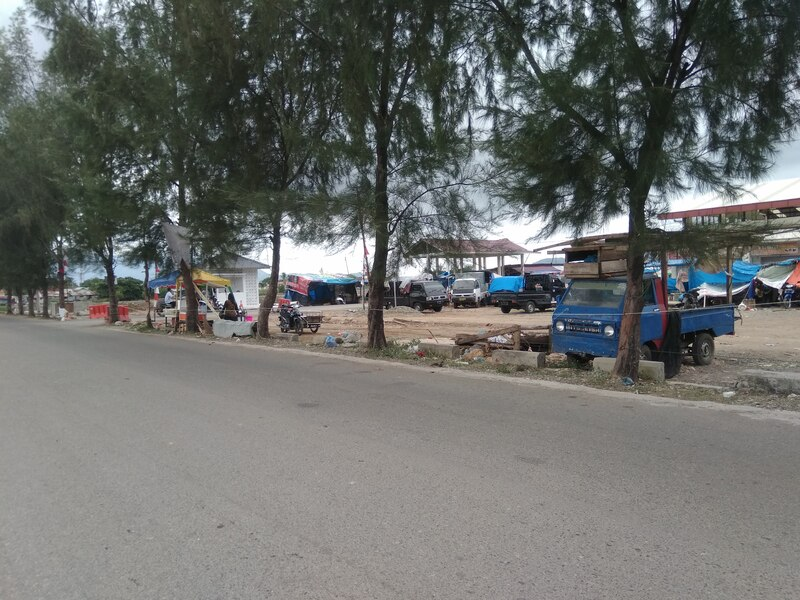becak barang: (277, 300, 329, 338)
